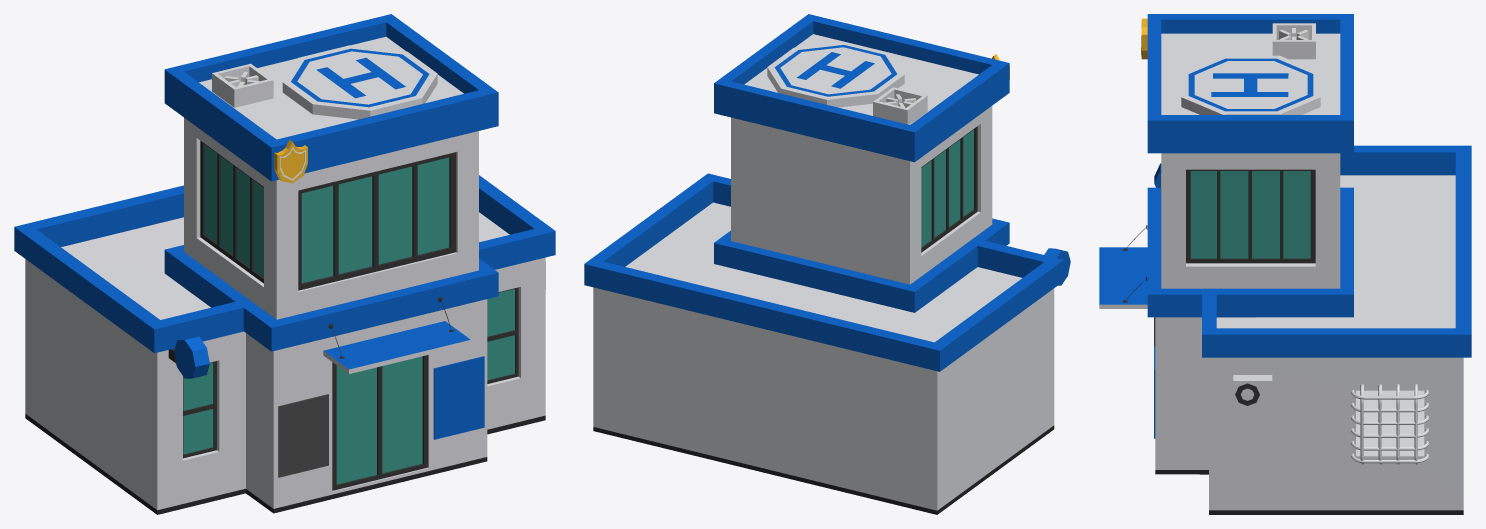
Rendered from police station.fbx.
The picture shows the model from 3 angles, left to right: view 1: azimuth 30°, elevation 25°; view 2: azimuth 150°, elevation 25°; view 3: azimuth 270°, elevation 25°; orthographic projection. The views are drawn at different scales.
Visible parts, largest first — view 1: police station, vetri, zona elicottero, Cube.005, Cube.001, Cube.010, Cube.011, Cube.004, Cube.006, Cube, Cube.003, stemma circolare (+1 smaller); view 2: police station, zona elicottero, vetri, Cube.006, Cube; view 3: police station, vetri, zona elicottero, Cube.006, Cube.001, grate orizzontali, Cube, condizionatore, Cylinder.
Part boxes in pixels (bbox=[...]): police station: bbox=[14, 14, 555, 514]; vetri: bbox=[183, 144, 514, 484]; zona elicottero: bbox=[282, 45, 437, 119]; Cube.005: bbox=[298, 152, 456, 290]; Cube.001: bbox=[323, 321, 470, 373]; Cube.010: bbox=[433, 356, 484, 439]; Cube.011: bbox=[278, 394, 328, 477]; Cube.004: bbox=[332, 355, 427, 490]; Cube.006: bbox=[200, 140, 263, 283]; Cube: bbox=[212, 63, 273, 107]; Cube.003: bbox=[183, 287, 518, 458]; stemma circolare: bbox=[168, 336, 209, 378]; police station: bbox=[584, 14, 1063, 514]; zona elicottero: bbox=[767, 42, 904, 107]; vetri: bbox=[921, 129, 973, 247]; Cube.006: bbox=[921, 126, 977, 252]; Cube: bbox=[873, 87, 927, 124]; police station: bbox=[1147, 14, 1471, 514]; vetri: bbox=[1190, 171, 1310, 258]; zona elicottero: bbox=[1181, 55, 1320, 114]; Cube.006: bbox=[1186, 169, 1315, 263]; Cube.001: bbox=[1099, 247, 1147, 308]; grate orizzontali: bbox=[1351, 390, 1428, 463]; Cube: bbox=[1272, 23, 1315, 59]; condizionatore: bbox=[1233, 375, 1272, 407]; Cylinder: bbox=[1360, 384, 1417, 464].
Bounding box in the file's own units: 2941 × 2561 × 2393.
